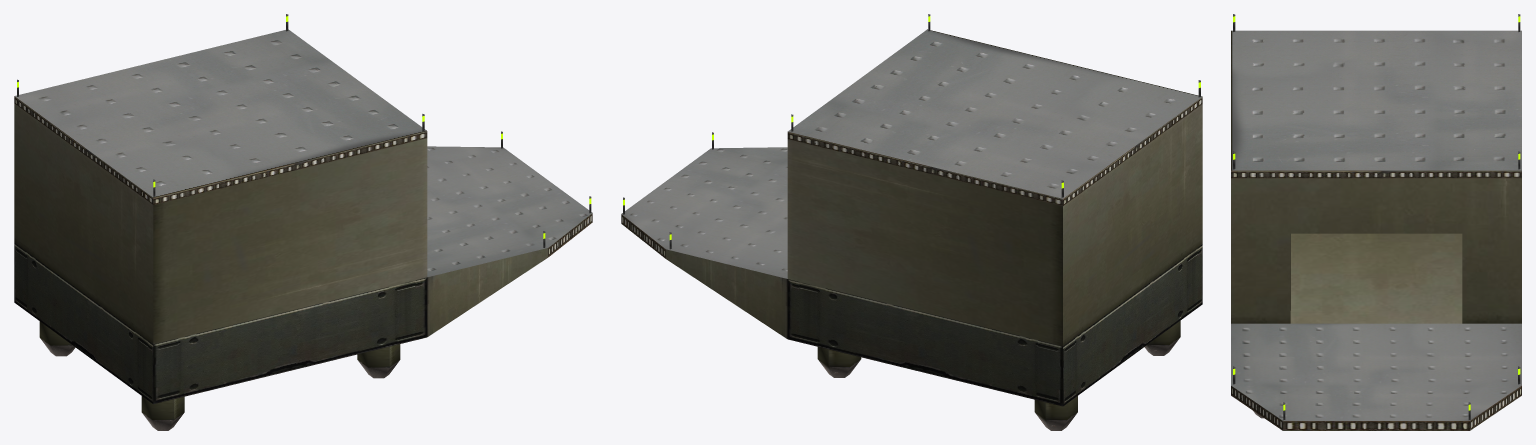
Rendered from SafeHouse.fbx.
3 renders of one model, left to right at view 1: azimuth 30°, elevation 25°; view 2: azimuth 150°, elevation 25°; view 3: azimuth 270°, elevation 25°, orthographic. The views are drawn at different scales.
Visible parts, largest first — view 1: SafeHouse_LOD0; view 2: SafeHouse_LOD0; view 3: SafeHouse_LOD0.
Boxes of the visible parts, x1,y1,x2,y2 form: SafeHouse_LOD0: [14, 14, 592, 430]; SafeHouse_LOD0: [621, 14, 1202, 430]; SafeHouse_LOD0: [1231, 14, 1521, 430].
Size of what is drawn, in the model's own units: 1012 by 551 by 525.
